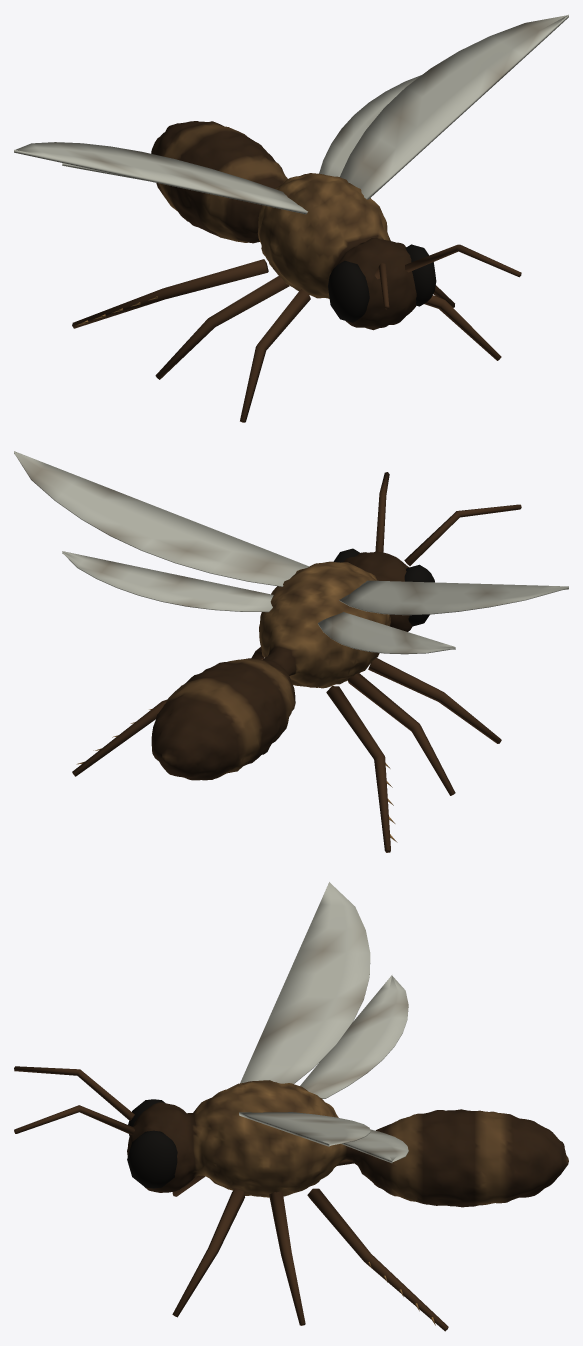
The model's file is Melittosphex.fbx.
3 renders of one model, top to bottom at view 1: azimuth 30°, elevation 25°; view 2: azimuth 150°, elevation 25°; view 3: azimuth 270°, elevation 25°, orthographic. The views are drawn at different scales.
Parts seen in each view (by area): view 1: Melittosphex; view 2: Melittosphex; view 3: Melittosphex.
Boxes of the visible parts, bbox=[...] form: Melittosphex: bbox=[14, 14, 568, 422]; Melittosphex: bbox=[14, 451, 568, 852]; Melittosphex: bbox=[14, 882, 568, 1331].
Bounding box in the file's own units: 1.17 × 0.5069 × 1.04.
